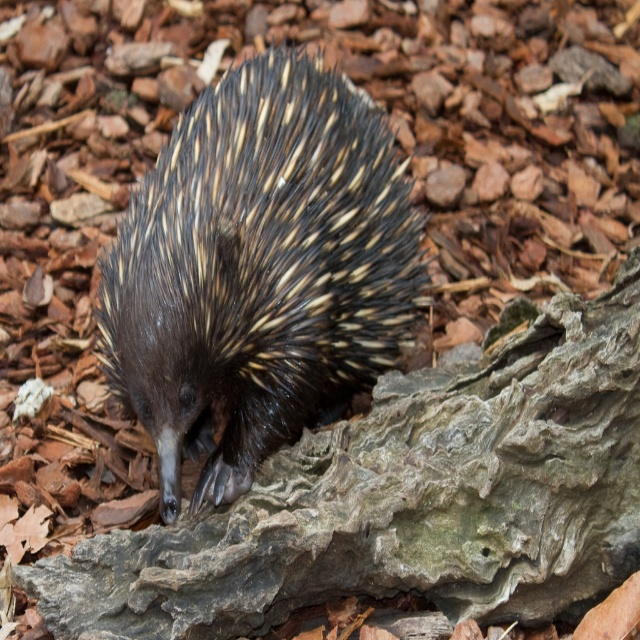Hedgehog: (89, 33, 442, 524)
